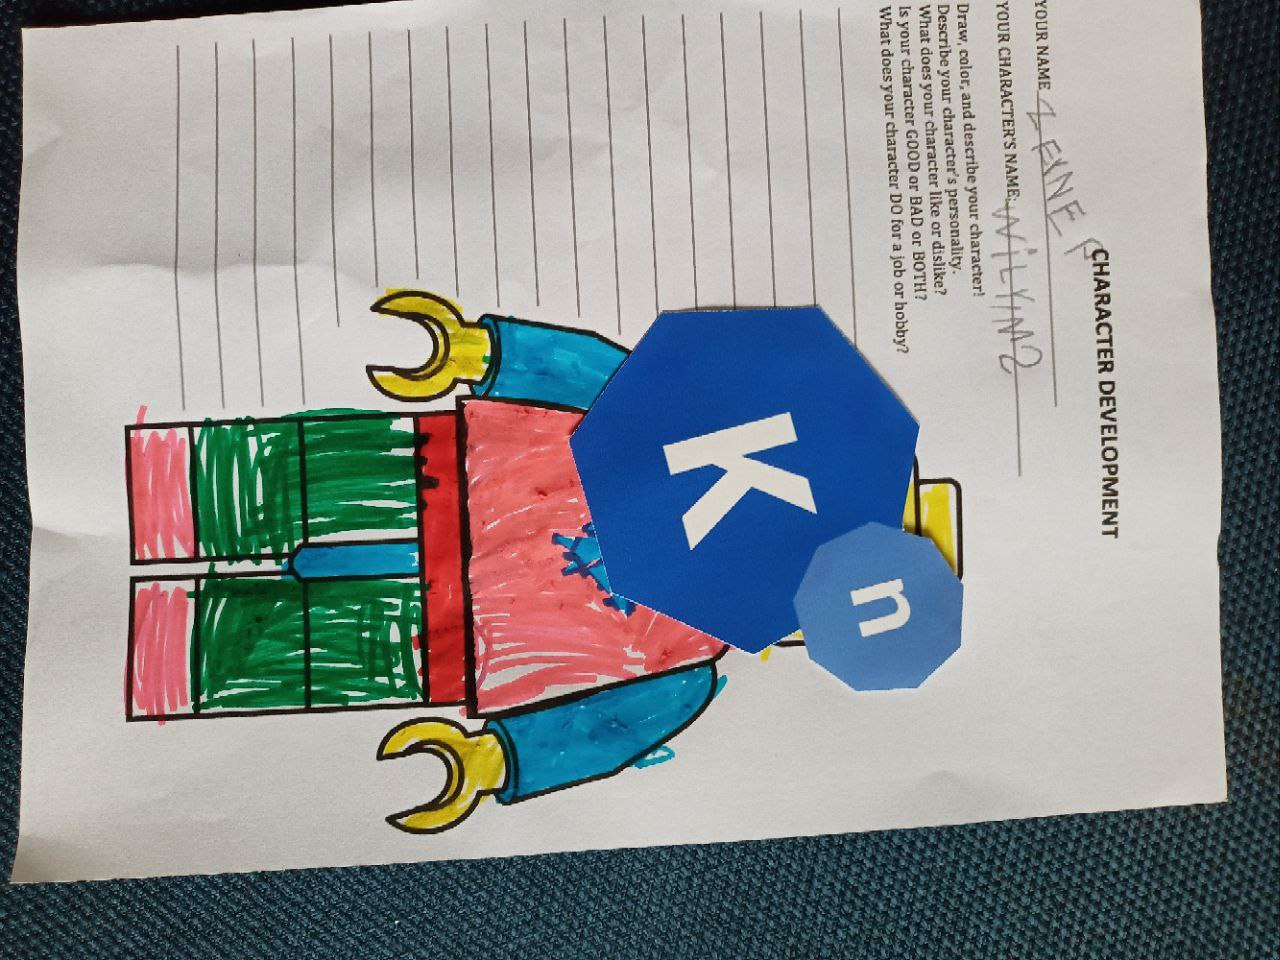knative: (568, 301, 966, 695)
